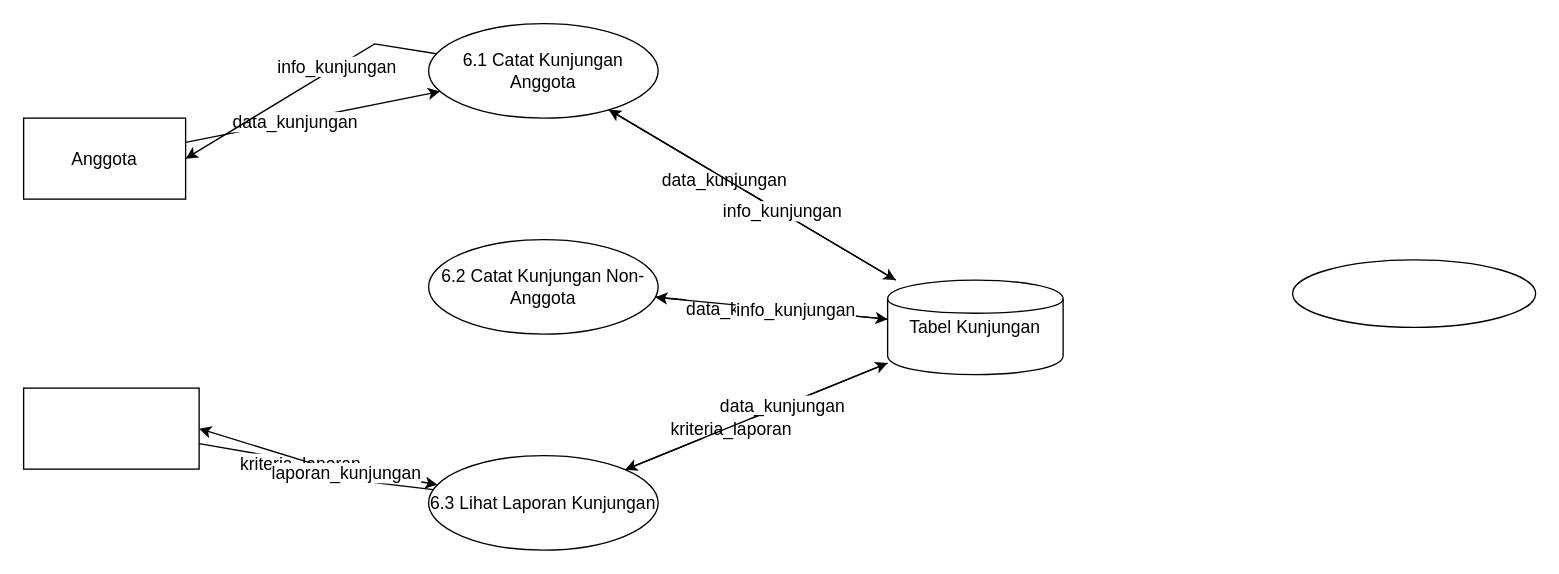
Image size: 1559x574. Some labels were removed from this diagram. The box of each missing label's shape, as (x1, y1, x2, y2) in pixels:
6. Pencatatan Kunjungan: (1291, 259, 1536, 327)
Kepala Perpustakaan: (22, 387, 199, 469)
